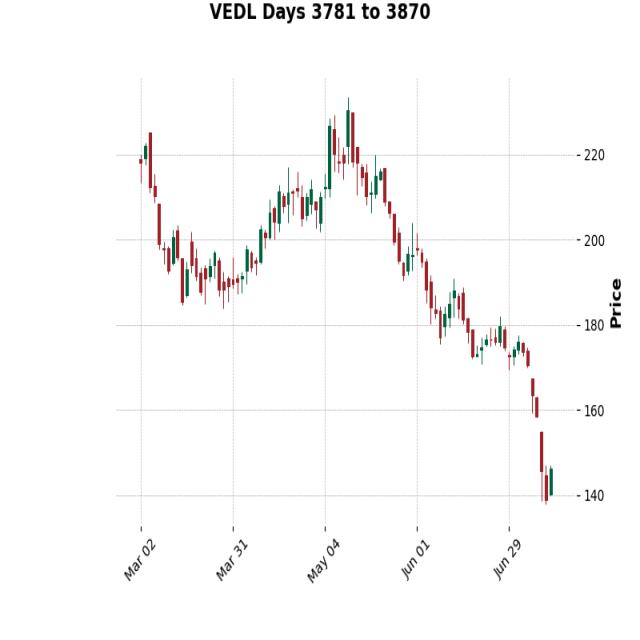Head and Shoulder: (245, 88, 458, 317)
